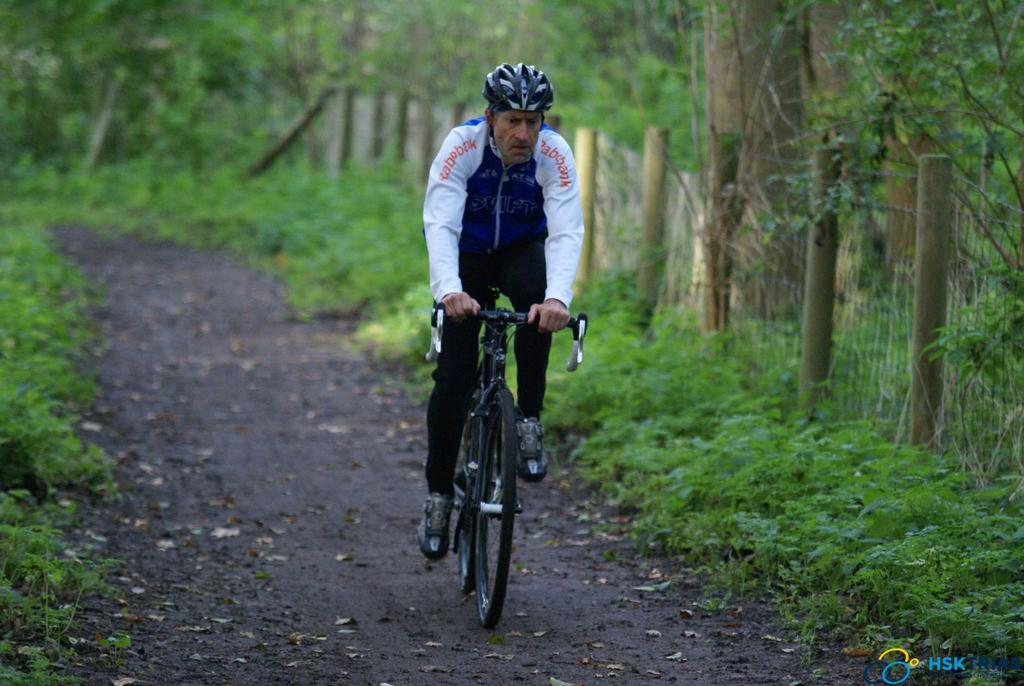Bike_toward: (404, 314, 620, 621)
